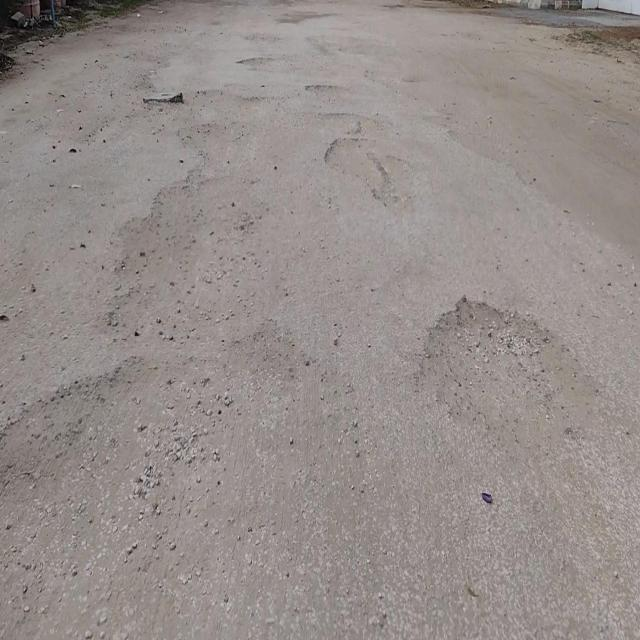Potholes: (418, 289, 588, 465), (322, 133, 389, 200)
